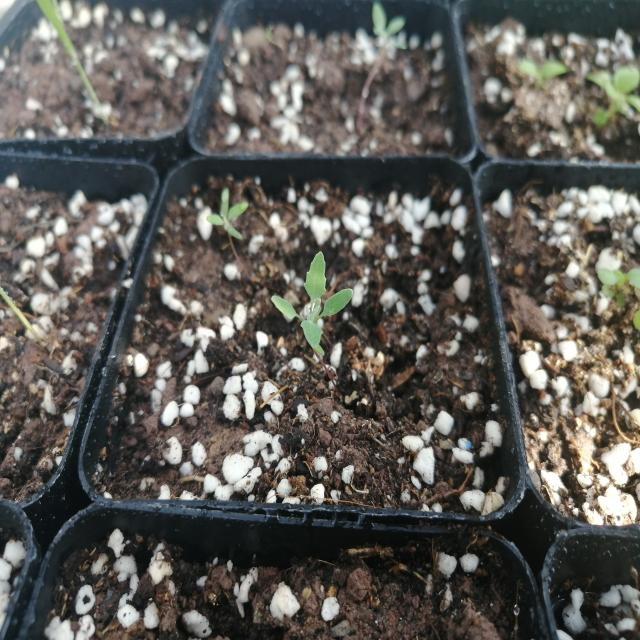goosefoots: (266, 251, 366, 369)
